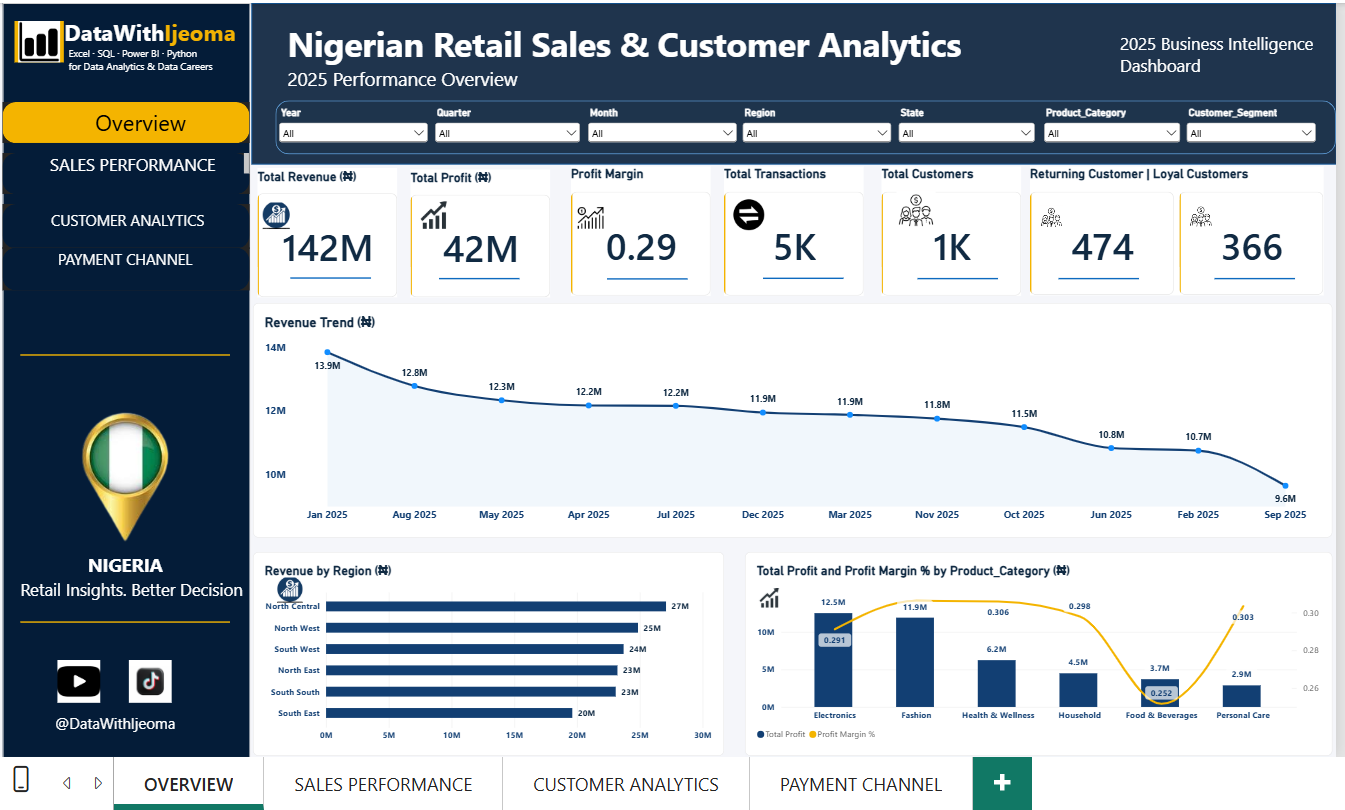

The dashboard page shown, as its layout file describes it:
{"tool":"powerbi","page":{"name":"OVERVIEW","canvas":[1920,1080],"ordinal":0},"visuals":[{"type":"shape","box":[11.3,0,354.3,1080],"z":0},{"type":"textbox","box":[75.7,18.6,270,44.3],"z":1000},{"type":"image","box":[28.1,24.7,70.8,59.6],"z":2000},{"type":"textbox","box":[105.6,62.9,259.6,44.9],"z":3000},{"type":"actionButton","box":[10.3,141,353.8,59],"z":4000},{"type":"shape","box":[366.7,0,1554.2,231.2],"z":5000},{"type":"textbox","box":[418.8,25,1443.8,64.6],"z":6000},{"type":"textbox","box":[418.8,89.6,429.2,50],"z":7000},{"type":"textbox","box":[1610.4,41.7,291.7,66.7],"z":8000},{"type":"shape","box":[402.1,139.6,1518.8,77.1],"z":9000},{"type":"slicer","fields":{"Values":["Date.Year"]},"box":[402.6,148.7,223.1,59],"z":10000},{"type":"slicer","fields":{"Values":["Date.Quarter"]},"box":[625.6,148.7,217.9,59],"z":11000},{"type":"slicer","fields":{"Values":["Date.Month"]},"box":[843.6,148.7,223.1,59],"z":12000},{"type":"slicer","fields":{"Values":["States.Region"]},"box":[1066.7,148.7,223.1,59],"z":13000},{"type":"slicer","fields":{"Values":["States.State"]},"box":[1289.7,148.7,205.1,59],"z":14000},{"type":"slicer","fields":{"Values":["Products.Product_Category"]},"box":[1497.4,148.7,205.1,59],"z":15000},{"type":"slicer","fields":{"Values":["Customers.Customer_Segment"]},"box":[1702.6,148.7,194.9,59],"z":16000},{"type":"cardVisual","title":"Total Revenue (₦)","fields":{"Data":["_Measures.Total Revenue"]},"box":[375,235.4,200,185.4],"z":17000},{"type":"image","box":[377.8,285.2,49.4,38.3],"z":18000},{"type":"cardVisual","title":"Total Profit (₦)","fields":{"Data":["_Measures.Total Profit"]},"box":[595.8,237.5,200,183.3],"z":19000},{"type":"cardVisual","title":"Profit Margin","fields":{"Data":["_Measures.Profit Margin %"]},"box":[825,233.3,200,185.4],"z":20000},{"type":"cardVisual","title":"Total Transactions","fields":{"Data":["_Measures.Total Transactions"]},"box":[1043.8,233.3,200,185.4],"z":21000},{"type":"cardVisual","title":"Total Customers","fields":{"Data":["_Measures.Total Customers"]},"box":[1268.8,233.3,200,185.4],"z":22000},{"type":"cardVisual","title":"Returning Customer | Loyal Customers","fields":{"Data":["_Measures.Returning Customers","_Measures.Loyal Customers"]},"box":[1482.1,233.3,420.5,184.6],"z":23000},{"type":"lineChart","title":"Revenue Trend (₦)","fields":{"Category":["Date.Month Year"],"Y":["_Measures.Total Revenue"]},"box":[369.2,430.8,1546.2,335.9],"z":24000},{"type":"barChart","title":"Revenue by Region (₦)","fields":{"Category":["States.Region"],"Y":["_Measures.Total Revenue"]},"box":[369.2,787.2,674.4,292.3],"z":25000},{"type":"lineClusteredColumnComboChart","title":"Total Profit and Profit Margin % by Product_Category (₦)","fields":{"Category":["Products.Product_Category"],"Y":["_Measures.Total Profit"],"Y2":["_Measures.Profit Margin %"]},"box":[1074.4,787.2,841,292.3],"z":26000},{"type":"image","box":[832.3,287.7,43.1,38.5],"z":27000},{"type":"image","box":[603.1,281.5,49.2,44.6],"z":28000},{"type":"image","box":[1486.2,289.2,52.3,33.8],"z":29000},{"type":"image","box":[1702.6,287.2,51.3,35.9],"z":30000},{"type":"image","box":[1271.8,269.2,94.9,56.4],"z":31000},{"type":"image","box":[1074.4,838.5,69.2,28.2],"z":32000},{"type":"image","box":[402.6,823.1,41,35.9],"z":33000},{"type":"shape","box":[635.9,371.8,115.4,46.2],"z":34000},{"type":"shape","box":[876.9,369.2,115.4,51.3],"z":35000},{"type":"shape","box":[423.1,376.9,115.4,35.9],"z":36000},{"type":"shape","box":[1100,374.4,115.4,41],"z":37000},{"type":"shape","box":[1320.5,371.8,115.4,46.2],"z":38000},{"type":"shape","box":[1523.1,371.8,115.4,46.2],"z":39000},{"type":"shape","box":[1746.2,371.8,115.4,46.2],"z":40000},{"type":"image","box":[1053.8,274.4,53.8,56.4],"z":41000},{"type":"image","box":[35.9,541,300,300],"z":42000},{"type":"shape","box":[35.9,448.7,300,110.3],"z":43000},{"type":"shape","box":[35.9,851.3,300,71.8],"z":44000},{"type":"textbox","box":[35.9,787.2,300,66.7],"z":45000},{"type":"textbox","box":[35.9,823.1,333.3,43.6],"z":46000},{"type":"image","box":[87.2,941.5,64.1,61.5],"z":47000},{"type":"image","box":[189.7,941.5,66.7,61.5],"z":48000},{"type":"textbox","box":[64.1,1015.4,215.4,35.9],"z":49000},{"type":"textbox","box":[100,148.7,215.4,51.3],"z":50000},{"type":"actionButton","box":[10.3,215.4,353.8,59],"z":51000},{"type":"textbox","box":[35.9,215.4,328.2,30.8],"z":52000},{"type":"actionButton","box":[10.3,287.2,353.8,64.1],"z":53000},{"type":"textbox","box":[64.1,297.4,251.3,33.3],"z":54000},{"type":"actionButton","box":[10.3,351.3,353.8,61.5],"z":55000},{"type":"textbox","box":[37,352.2,300,30.4],"z":56000}]}

Visuals, with their boxes on the page's 1920x1080 design canvas (x1, y1, x2, y2). These are canvas units, not pixel positions in the 1345x810 screenshot, which may show the page scaled, cropped or inside an application window:
shape: <box>11,0,366,1080</box>
textbox: <box>76,19,346,63</box>
image: <box>28,25,99,84</box>
textbox: <box>106,63,365,108</box>
actionButton: <box>10,141,364,200</box>
shape: <box>367,0,1921,231</box>
textbox: <box>419,25,1863,90</box>
textbox: <box>419,90,848,140</box>
textbox: <box>1610,42,1902,108</box>
shape: <box>402,140,1921,217</box>
slicer - Date.Year: <box>403,149,626,208</box>
slicer - Date.Quarter: <box>626,149,844,208</box>
slicer - Date.Month: <box>844,149,1067,208</box>
slicer - States.Region: <box>1067,149,1290,208</box>
slicer - States.State: <box>1290,149,1495,208</box>
slicer - Products.Product_Category: <box>1497,149,1702,208</box>
slicer - Customers.Customer_Segment: <box>1703,149,1898,208</box>
"Total Revenue (₦)" cardVisual: <box>375,235,575,421</box>
image: <box>378,285,427,324</box>
"Total Profit (₦)" cardVisual: <box>596,238,796,421</box>
"Profit Margin" cardVisual: <box>825,233,1025,419</box>
"Total Transactions" cardVisual: <box>1044,233,1244,419</box>
"Total Customers" cardVisual: <box>1269,233,1469,419</box>
"Returning Customer | Loyal Customers" cardVisual: <box>1482,233,1903,418</box>
"Revenue Trend (₦)" lineChart: <box>369,431,1915,767</box>
"Revenue by Region (₦)" barChart: <box>369,787,1044,1080</box>
"Total Profit and Profit Margin % by Product_Category (₦)" lineClusteredColumnComboChart: <box>1074,787,1915,1080</box>
image: <box>832,288,875,326</box>
image: <box>603,282,652,326</box>
image: <box>1486,289,1538,323</box>
image: <box>1703,287,1754,323</box>
image: <box>1272,269,1367,326</box>
image: <box>1074,838,1144,867</box>
image: <box>403,823,444,859</box>
shape: <box>636,372,751,418</box>
shape: <box>877,369,992,420</box>
shape: <box>423,377,538,413</box>
shape: <box>1100,374,1215,415</box>
shape: <box>1320,372,1436,418</box>
shape: <box>1523,372,1638,418</box>
shape: <box>1746,372,1862,418</box>
image: <box>1054,274,1108,331</box>
image: <box>36,541,336,841</box>
shape: <box>36,449,336,559</box>
shape: <box>36,851,336,923</box>
textbox: <box>36,787,336,854</box>
textbox: <box>36,823,369,867</box>
image: <box>87,942,151,1003</box>
image: <box>190,942,256,1003</box>
textbox: <box>64,1015,280,1051</box>
textbox: <box>100,149,315,200</box>
actionButton: <box>10,215,364,274</box>
textbox: <box>36,215,364,246</box>
actionButton: <box>10,287,364,351</box>
textbox: <box>64,297,315,331</box>
actionButton: <box>10,351,364,413</box>
textbox: <box>37,352,337,383</box>
